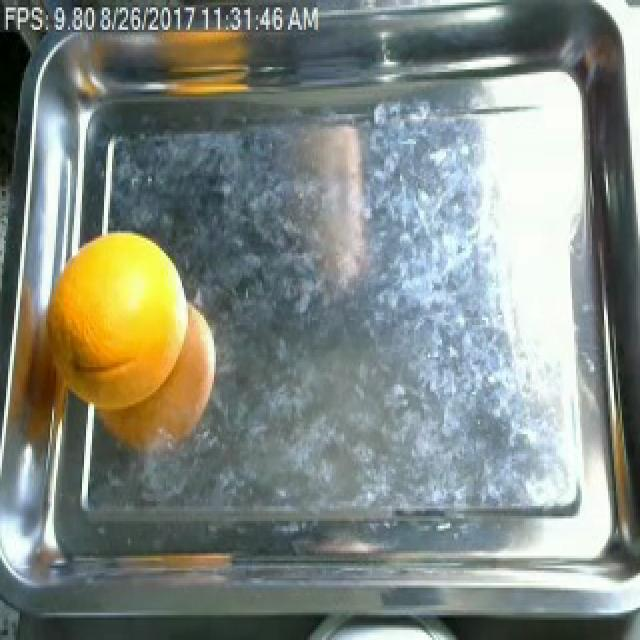Fruit: (34, 216, 200, 461), (140, 17, 256, 92)
